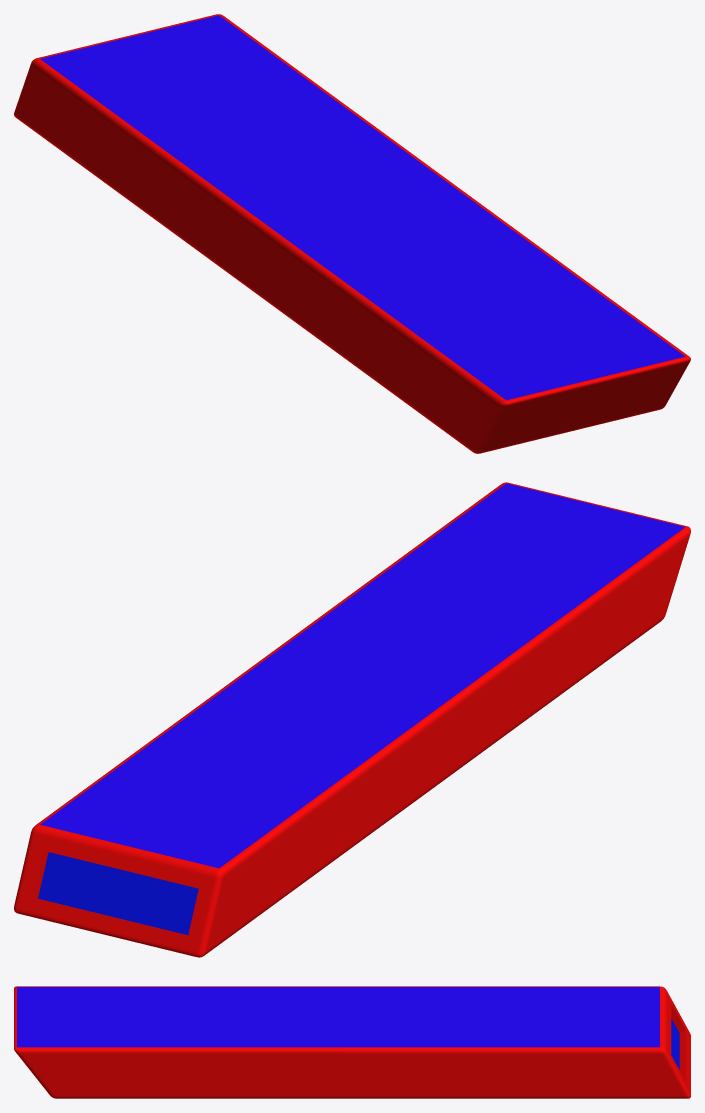
The model's file is TVRemote.fbx.
3 renders of one model, top to bottom at view 1: azimuth 30°, elevation 25°; view 2: azimuth 150°, elevation 25°; view 3: azimuth 270°, elevation 25°, orthographic. The views are drawn at different scales.
Visible parts, largest first — view 1: TVRemote; view 2: TVRemote; view 3: TVRemote.
Part boxes in pixels (x1,y1,x2,y2): TVRemote: (14,14,690,453); TVRemote: (14,482,690,957); TVRemote: (14,986,690,1098).
Bounding box in the file's own units: 6.28 × 2.3 × 27.89.
